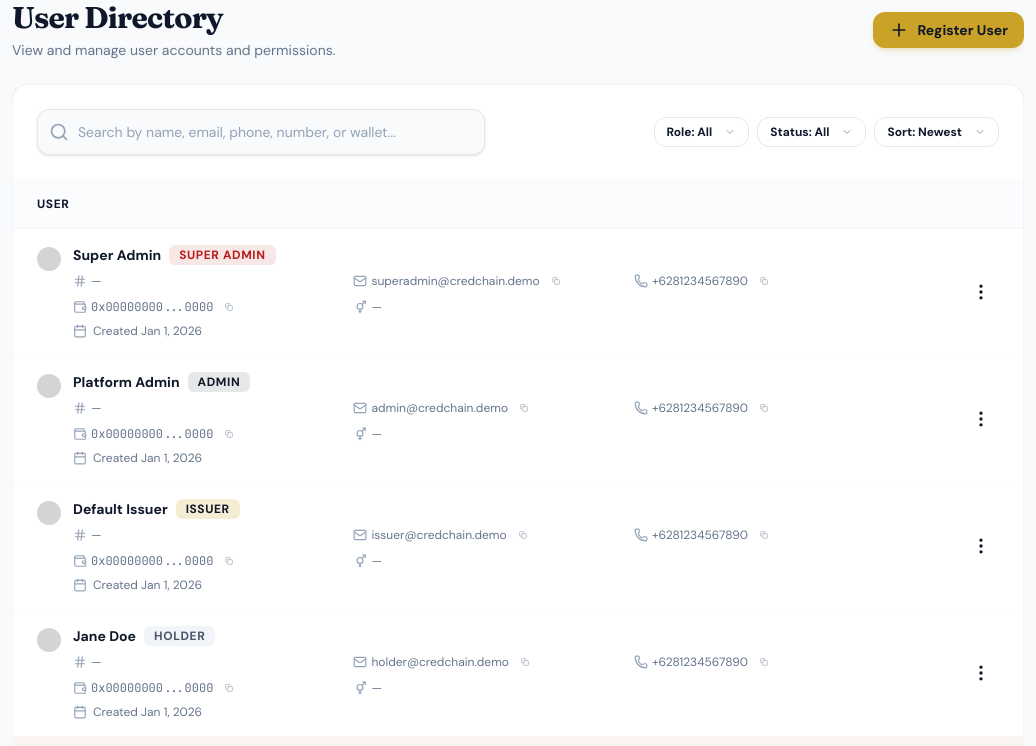
Test: UserList › shows Edit, Delete, and Restore options for admin role
Expected: the link "Default Issuer" is shown, [73,499,168,519]
Click the button named "actions" in the row of "issuer@credchain.demo". click: x=981, y=546
box: [963,528,999,564]
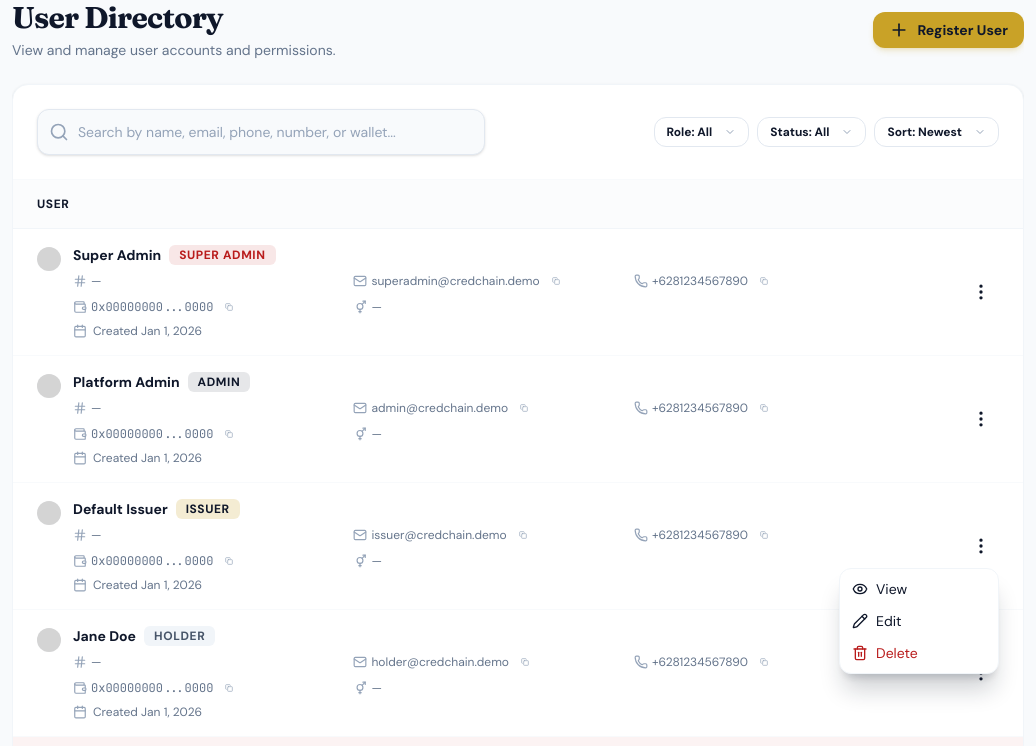
Expected: the menu item "Edit" is shown, [852,612,902,630]
Expected: the menu item "Delete" is shown, [852,644,918,662]
Press Escape
(page scrolled)
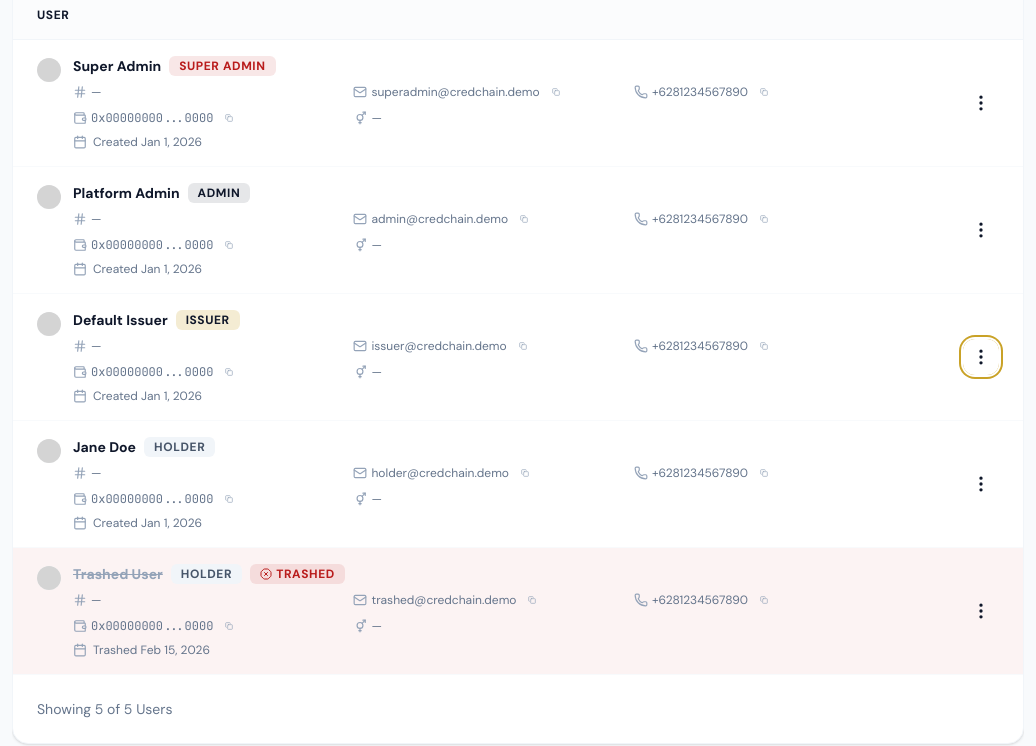
Expected: the link "Trashed User" is shown, [73,564,163,584]
Click the button named "actions" in the row of "trashed@credchain.demo". click: x=981, y=611
box: [963,593,999,629]
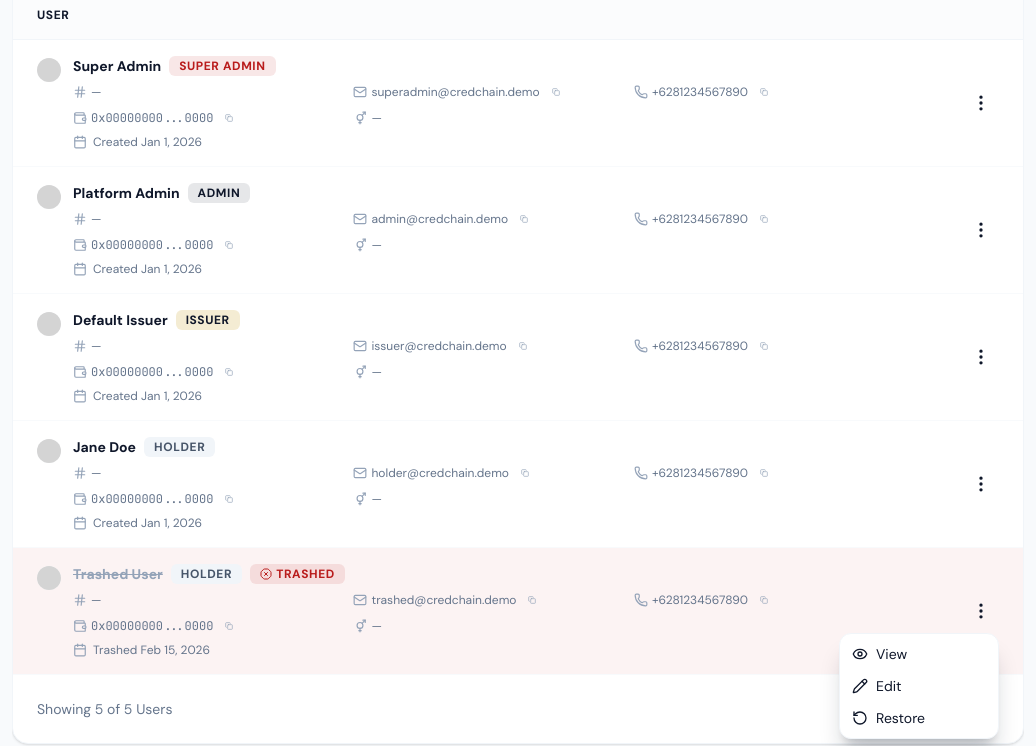
Expected: the menu item "Restore" is shown, [852,709,925,727]
